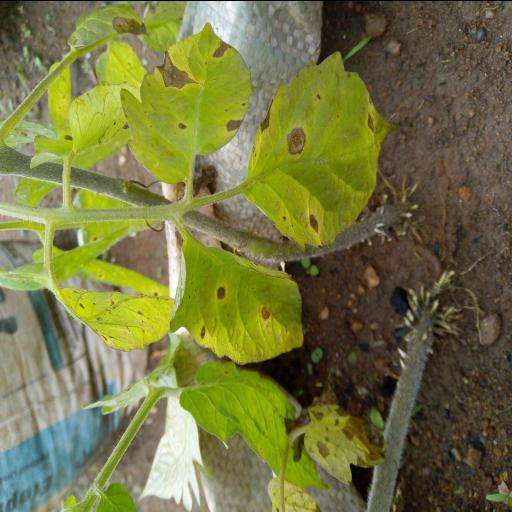Early Blight: (245, 47, 385, 242), (118, 20, 252, 182), (165, 242, 304, 366)
